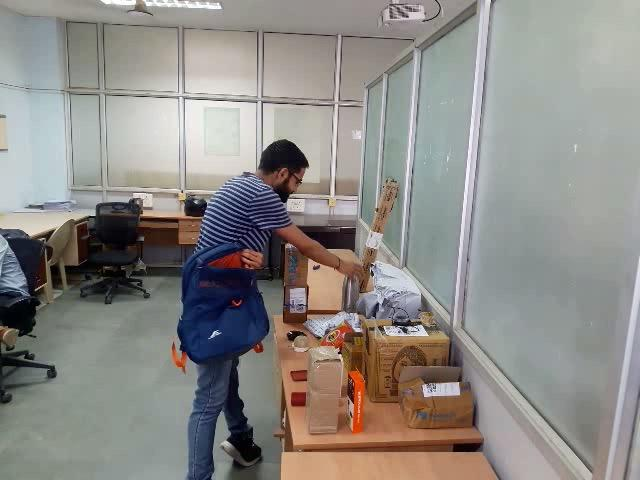shoplifting: (146, 229, 392, 378)
